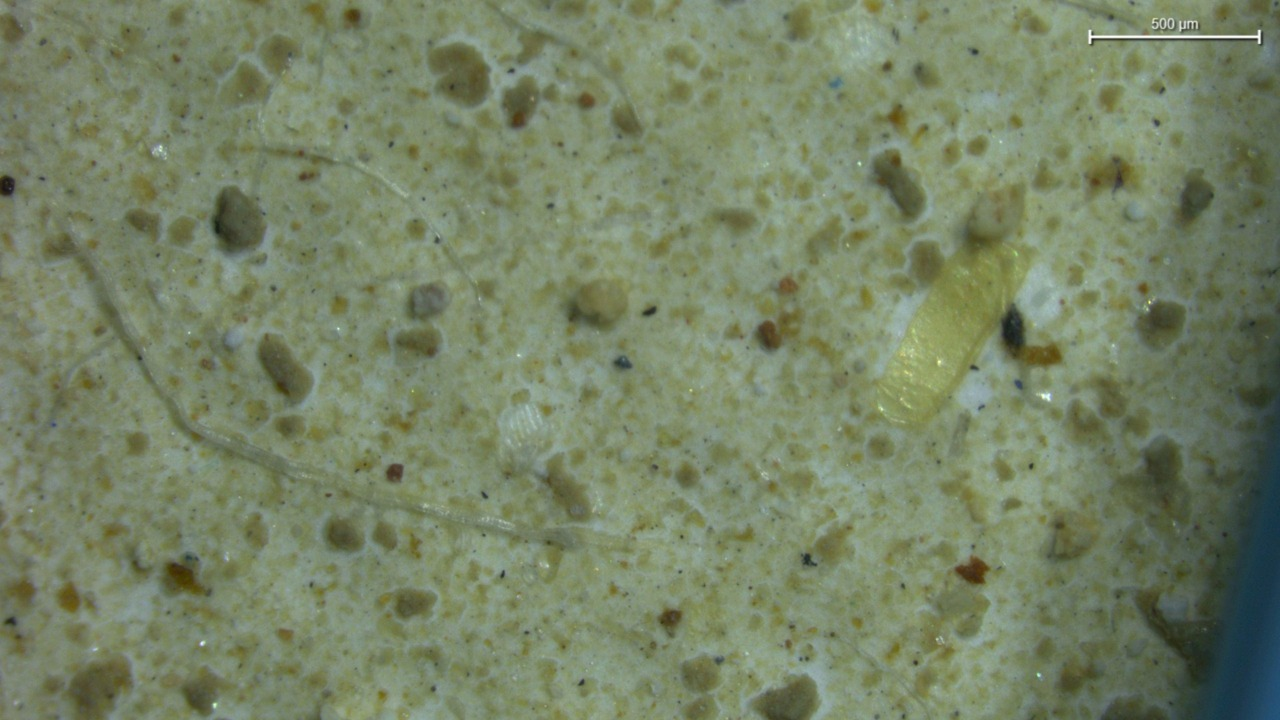microplastic_fragment: (876, 242, 1030, 429), (498, 403, 553, 474), (410, 283, 449, 318)
